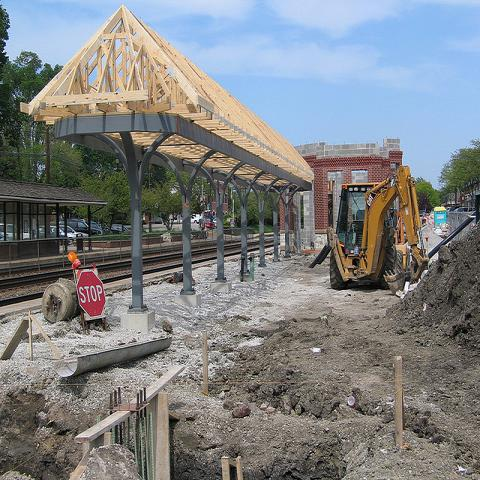car: (0, 224, 36, 240), (51, 225, 88, 238), (60, 219, 89, 233), (110, 222, 130, 234), (202, 218, 215, 230), (191, 217, 199, 224), (213, 218, 217, 227)
